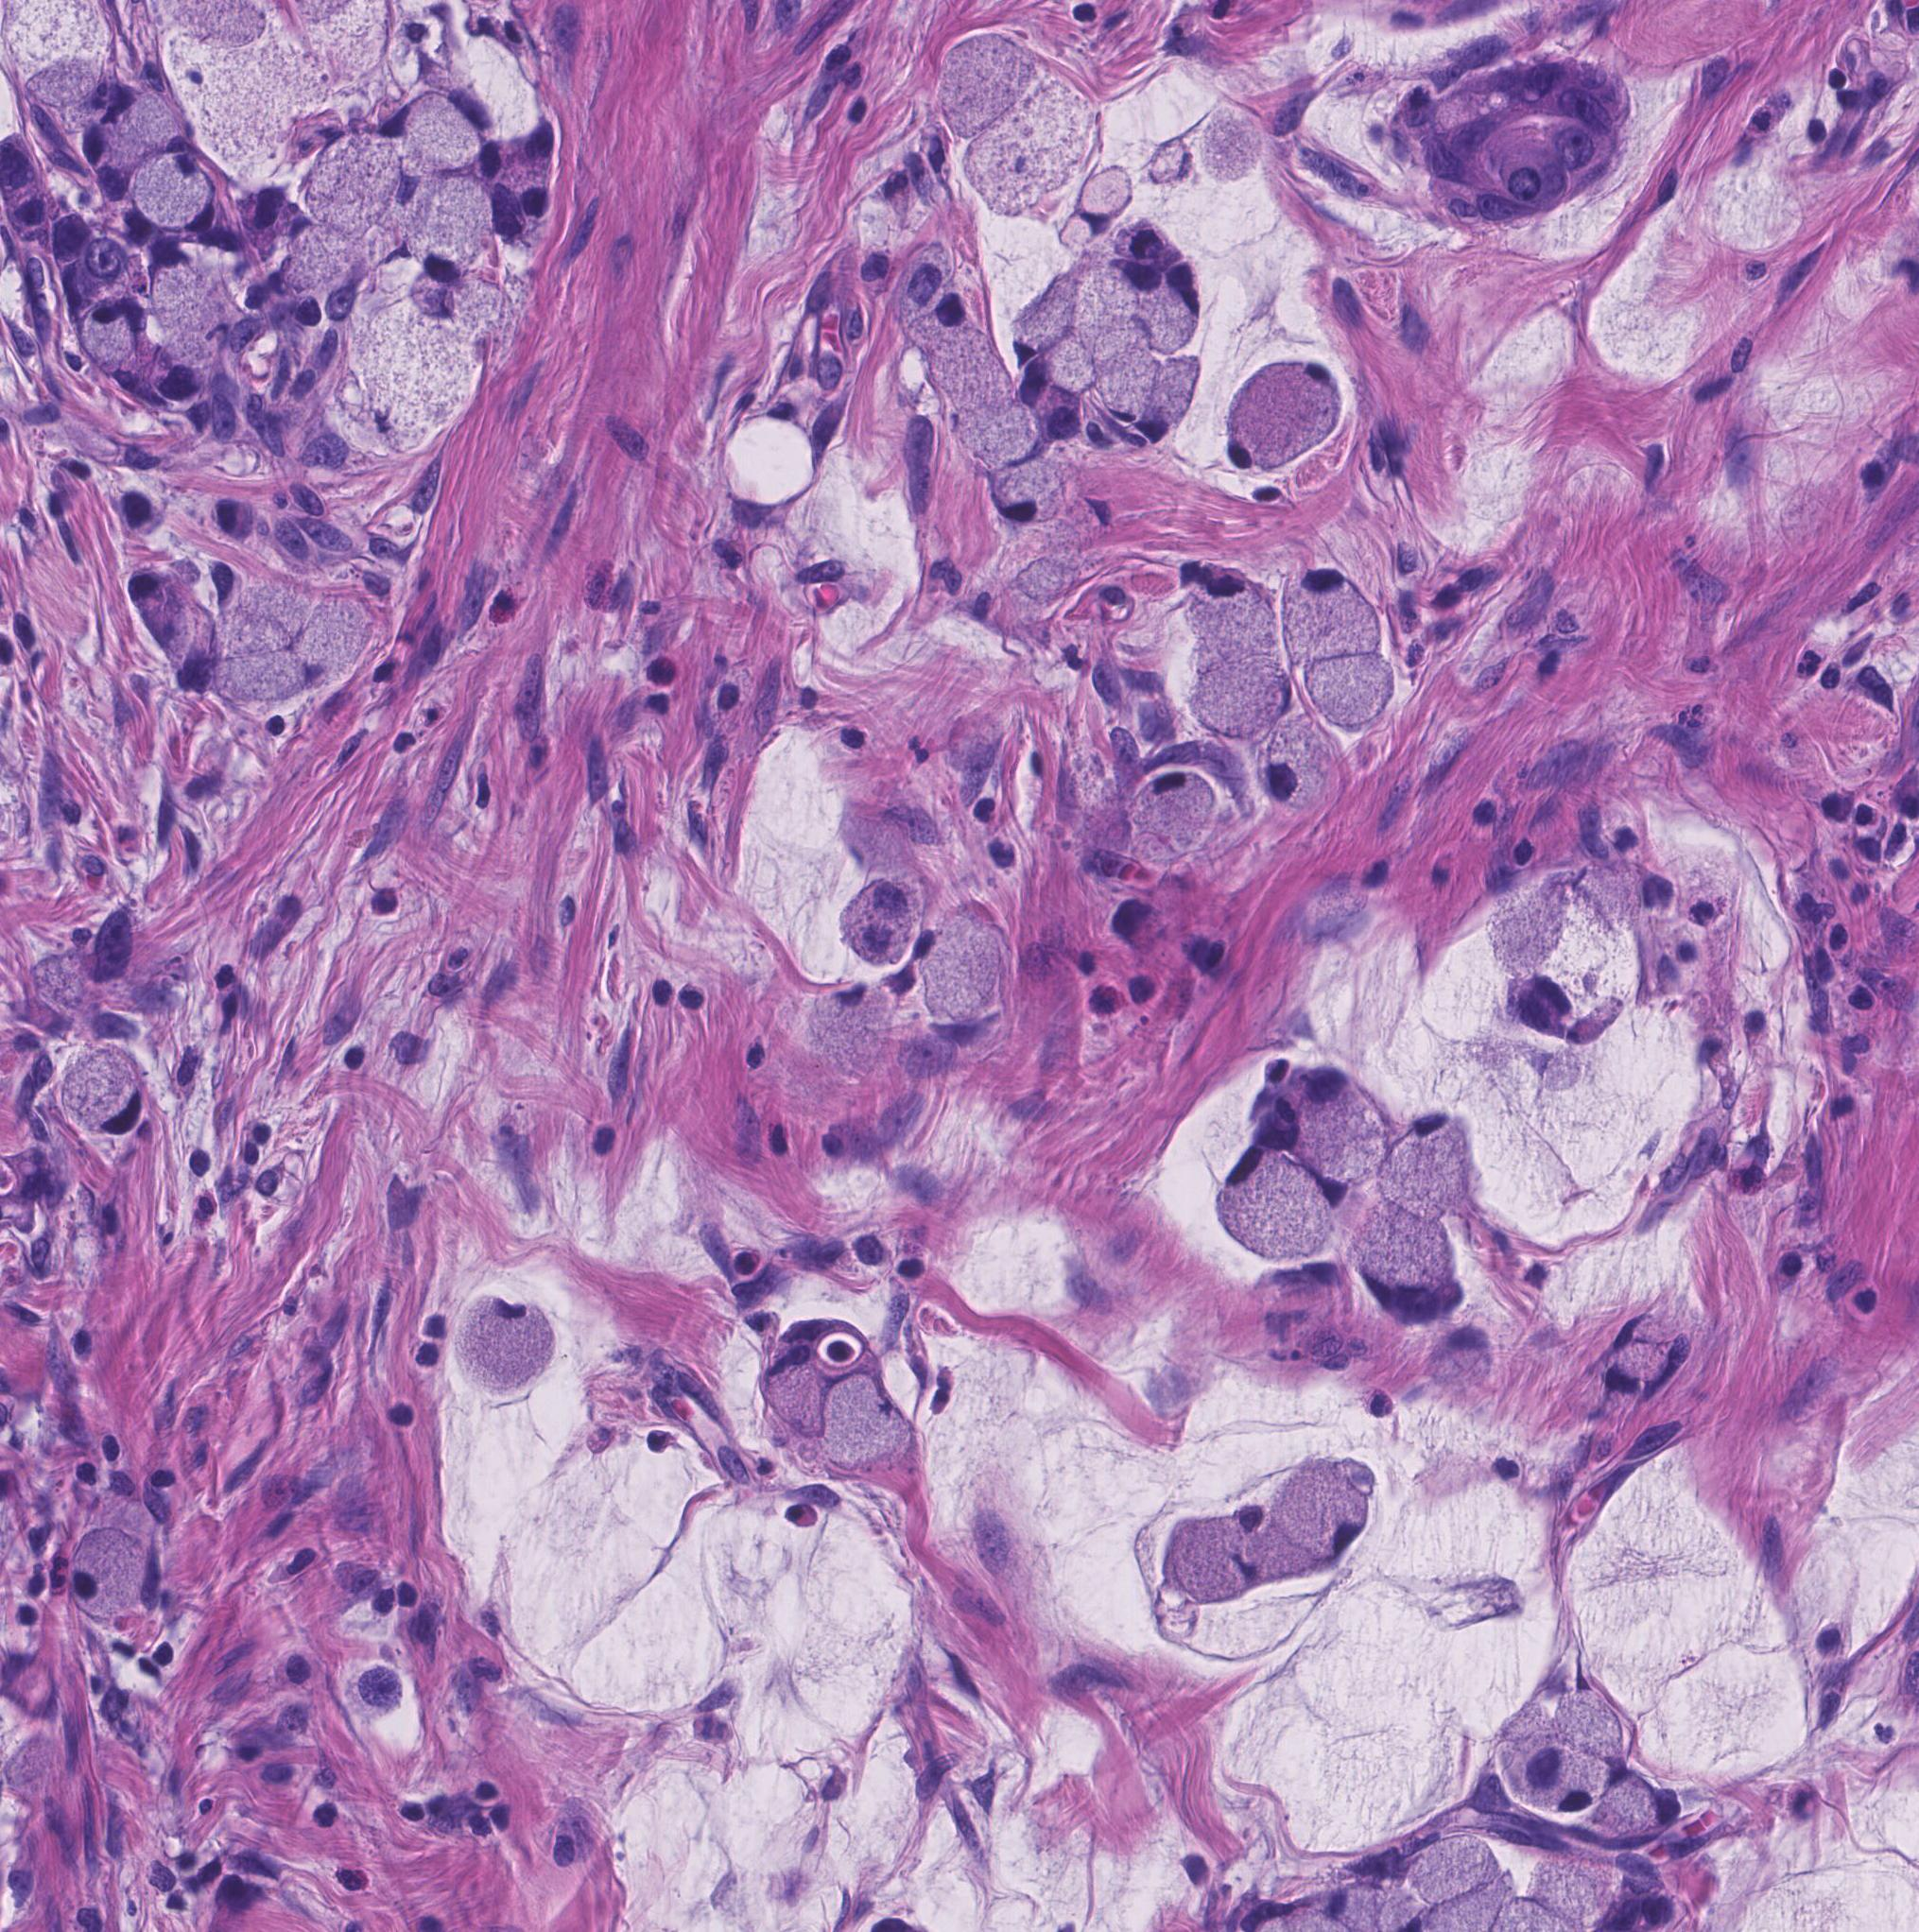ring_cell_cancer: (1274, 1059, 1388, 1193), (1350, 1212, 1471, 1337), (1230, 357, 1341, 478), (1207, 1157, 1336, 1261), (390, 251, 497, 365), (1260, 1461, 1376, 1565), (450, 1286, 557, 1396), (919, 908, 1014, 1024), (1184, 567, 1278, 676), (394, 169, 490, 270), (822, 1384, 930, 1475), (1286, 559, 1381, 660), (202, 562, 309, 652), (1165, 1514, 1264, 1611), (376, 88, 482, 177), (1392, 1115, 1485, 1215), (1511, 973, 1629, 1052), (1121, 764, 1218, 859), (56, 1052, 153, 1140), (1256, 725, 1351, 813), (1490, 1744, 1603, 1814), (65, 1530, 146, 1626), (1072, 255, 1162, 339), (1601, 1316, 1691, 1398), (1597, 1765, 1692, 1842), (1002, 267, 1077, 362), (128, 151, 213, 232), (907, 300, 995, 378), (842, 882, 917, 970), (130, 255, 211, 335), (163, 609, 239, 696), (125, 567, 197, 657), (752, 1345, 829, 1428), (981, 460, 1070, 529), (265, 214, 344, 290), (1132, 360, 1198, 446), (1093, 325, 1149, 427), (81, 292, 146, 374), (1065, 167, 1137, 235), (1141, 281, 1207, 350)
